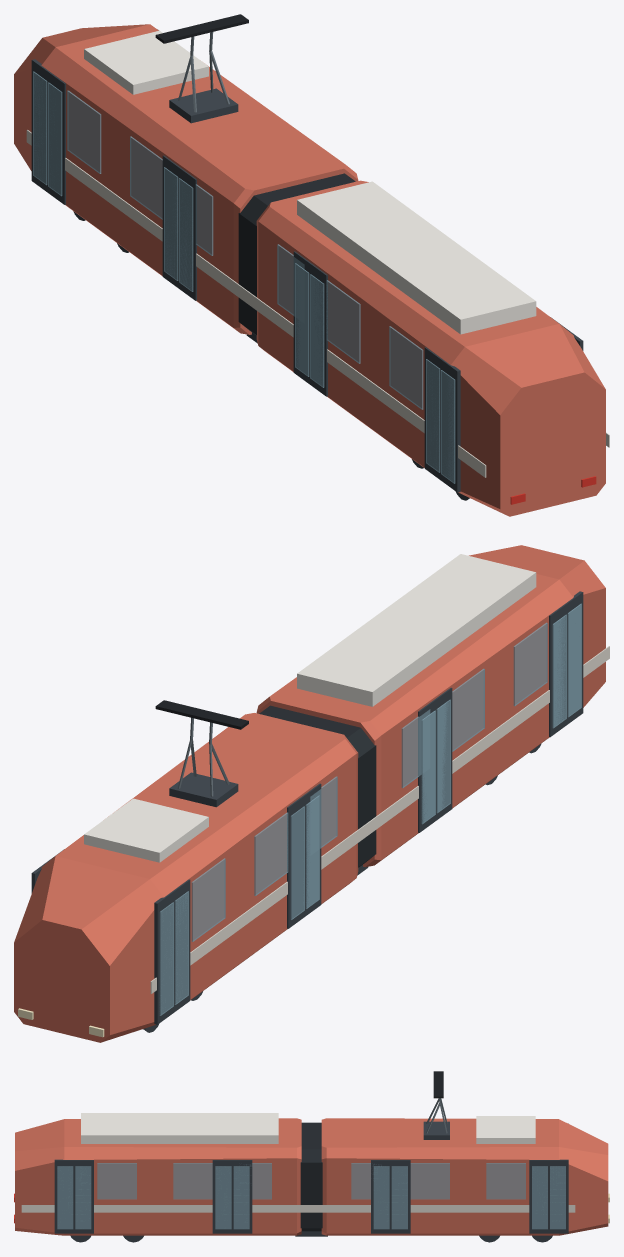
The model's file is RAIL_03.obj.
3 views of the same model, one above another, from view 1: azimuth 30°, elevation 25°; view 2: azimuth 150°, elevation 25°; view 3: azimuth 270°, elevation 25° (orthographic). The views are drawn at different scales.
Visible parts, largest first — view 1: section_B, section_A, roof_equipment, doors, windows, stripe, articulation, pantograph, pantograph_base; view 2: section_A, section_B, roof_equipment, doors, windows, stripe, articulation, pantograph, pantograph_base; view 3: section_A, section_B, doors, roof_equipment, windows, stripe, articulation, pantograph, pantograph_base.
Part boxes in pixels (x1,y1,x2,y2): section_B: (256,180,605,516); section_A: (14,24,358,334); roof_equipment: (84,30,536,334); doors: (31,29,583,492); windows: (67,90,423,409); stripe: (26,130,609,477); articulation: (238,173,355,335); pantograph: (155,14,248,112); pantograph_base: (169,88,238,123); section_A: (14,713,358,1042); section_B: (256,545,605,867); roof_equipment: (84,554,536,862); doors: (31,591,583,1024); windows: (191,622,547,941); stripe: (150,646,609,993); articulation: (259,705,376,867); pantograph: (155,700,248,796); pantograph_base: (169,772,238,807); section_A: (321,1118,608,1235); section_B: (15,1118,301,1235); doors: (54,1123,568,1233); roof_equipment: (81,1113,535,1143); windows: (97,1163,525,1199); stripe: (21,1205,575,1212); articulation: (300,1122,322,1231); pantograph: (426,1071,447,1133); pantograph_base: (423,1121,449,1139).
Size of the model in its own units: 2.7 by 4.97 by 18.08.
